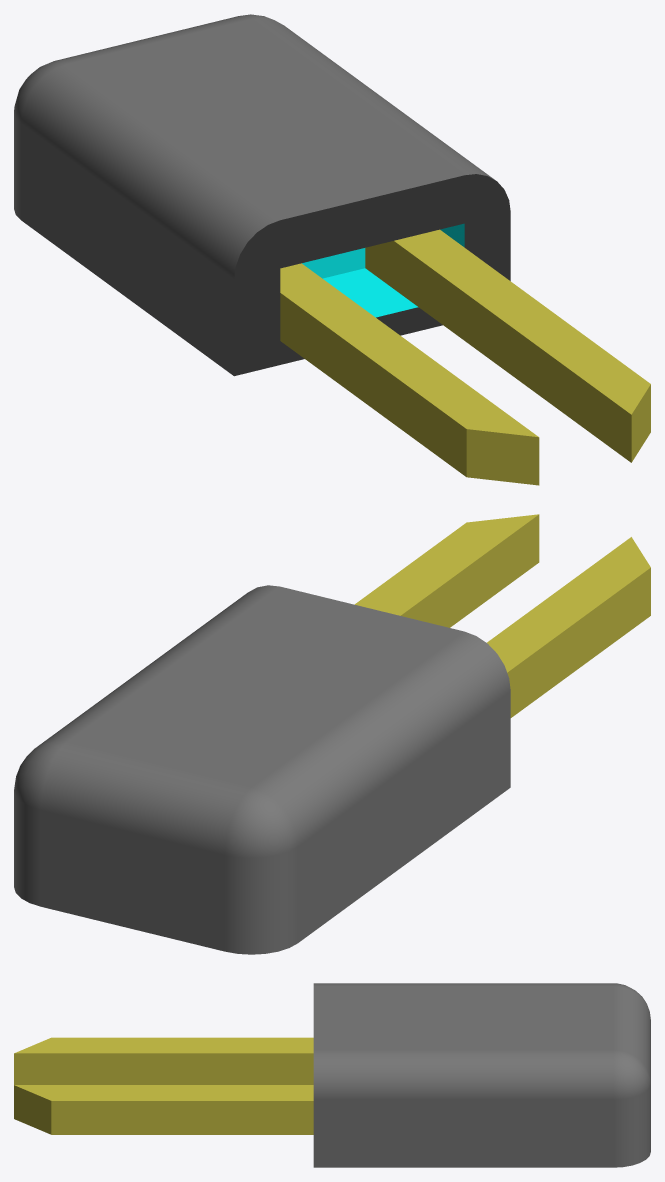
File: TankyTesla.fbx
3 views of the same model, one above another, from view 1: azimuth 30°, elevation 25°; view 2: azimuth 150°, elevation 25°; view 3: azimuth 270°, elevation 25° (orthographic). The views are drawn at different scales.
Visible parts, largest first — view 1: Tesla v3; view 2: Tesla v3; view 3: Tesla v3.
Part boxes in pixels (x1,y1,x2,y2): Tesla v3: (14,14,650,485); Tesla v3: (14,514,650,954); Tesla v3: (14,983,650,1167).
Bounding box in the file's own units: 60 × 30 × 170.
